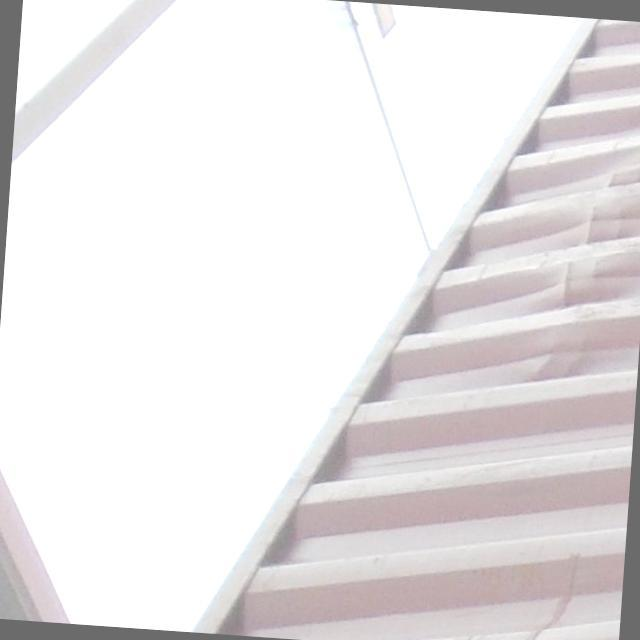dent: (527, 131, 640, 391)
